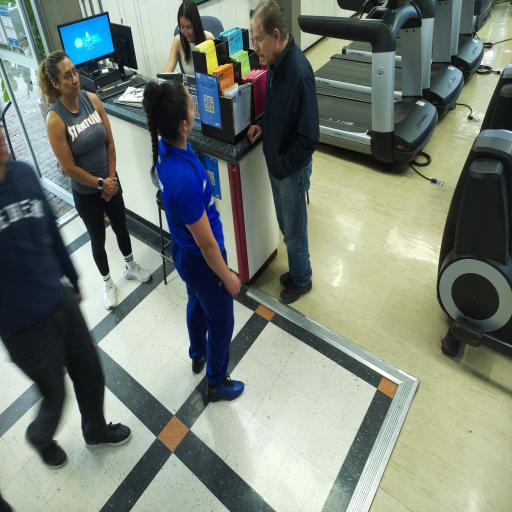person: (0, 135, 131, 468), (143, 81, 244, 401), (38, 51, 151, 309), (248, 0, 319, 303), (165, 0, 214, 75), (0, 496, 12, 511)
